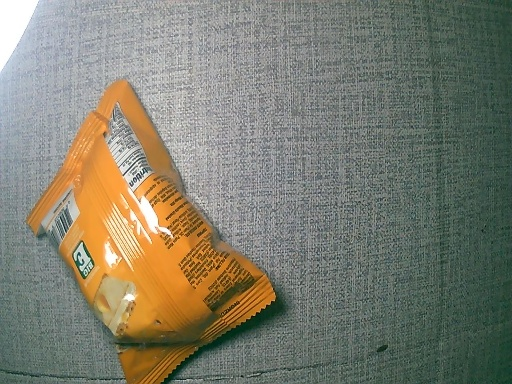plastic: (26, 77, 278, 384)
